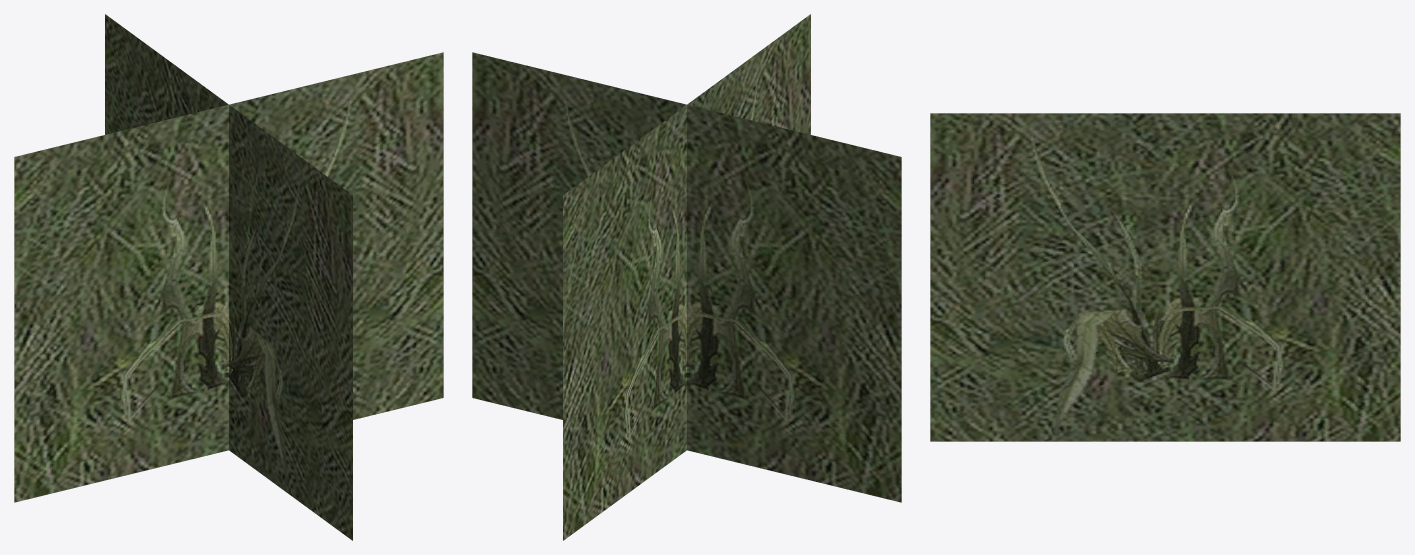
Rendered from core_leaf_razorgrass_mtns_l2.fbx.
3 views of the same model, side by side, from view 1: azimuth 30°, elevation 25°; view 2: azimuth 150°, elevation 25°; view 3: azimuth 270°, elevation 25° (orthographic). The views are drawn at different scales.
Parts seen in each view (by area): view 1: mesh_node; view 2: mesh_node; view 3: mesh_node.
Boxes of the visible parts, x1,y1,x2,y2 form: mesh_node: [14, 14, 443, 540]; mesh_node: [472, 14, 901, 540]; mesh_node: [930, 113, 1400, 441].
Bounding box in the file's own units: 2.09 × 1.61 × 2.09.
